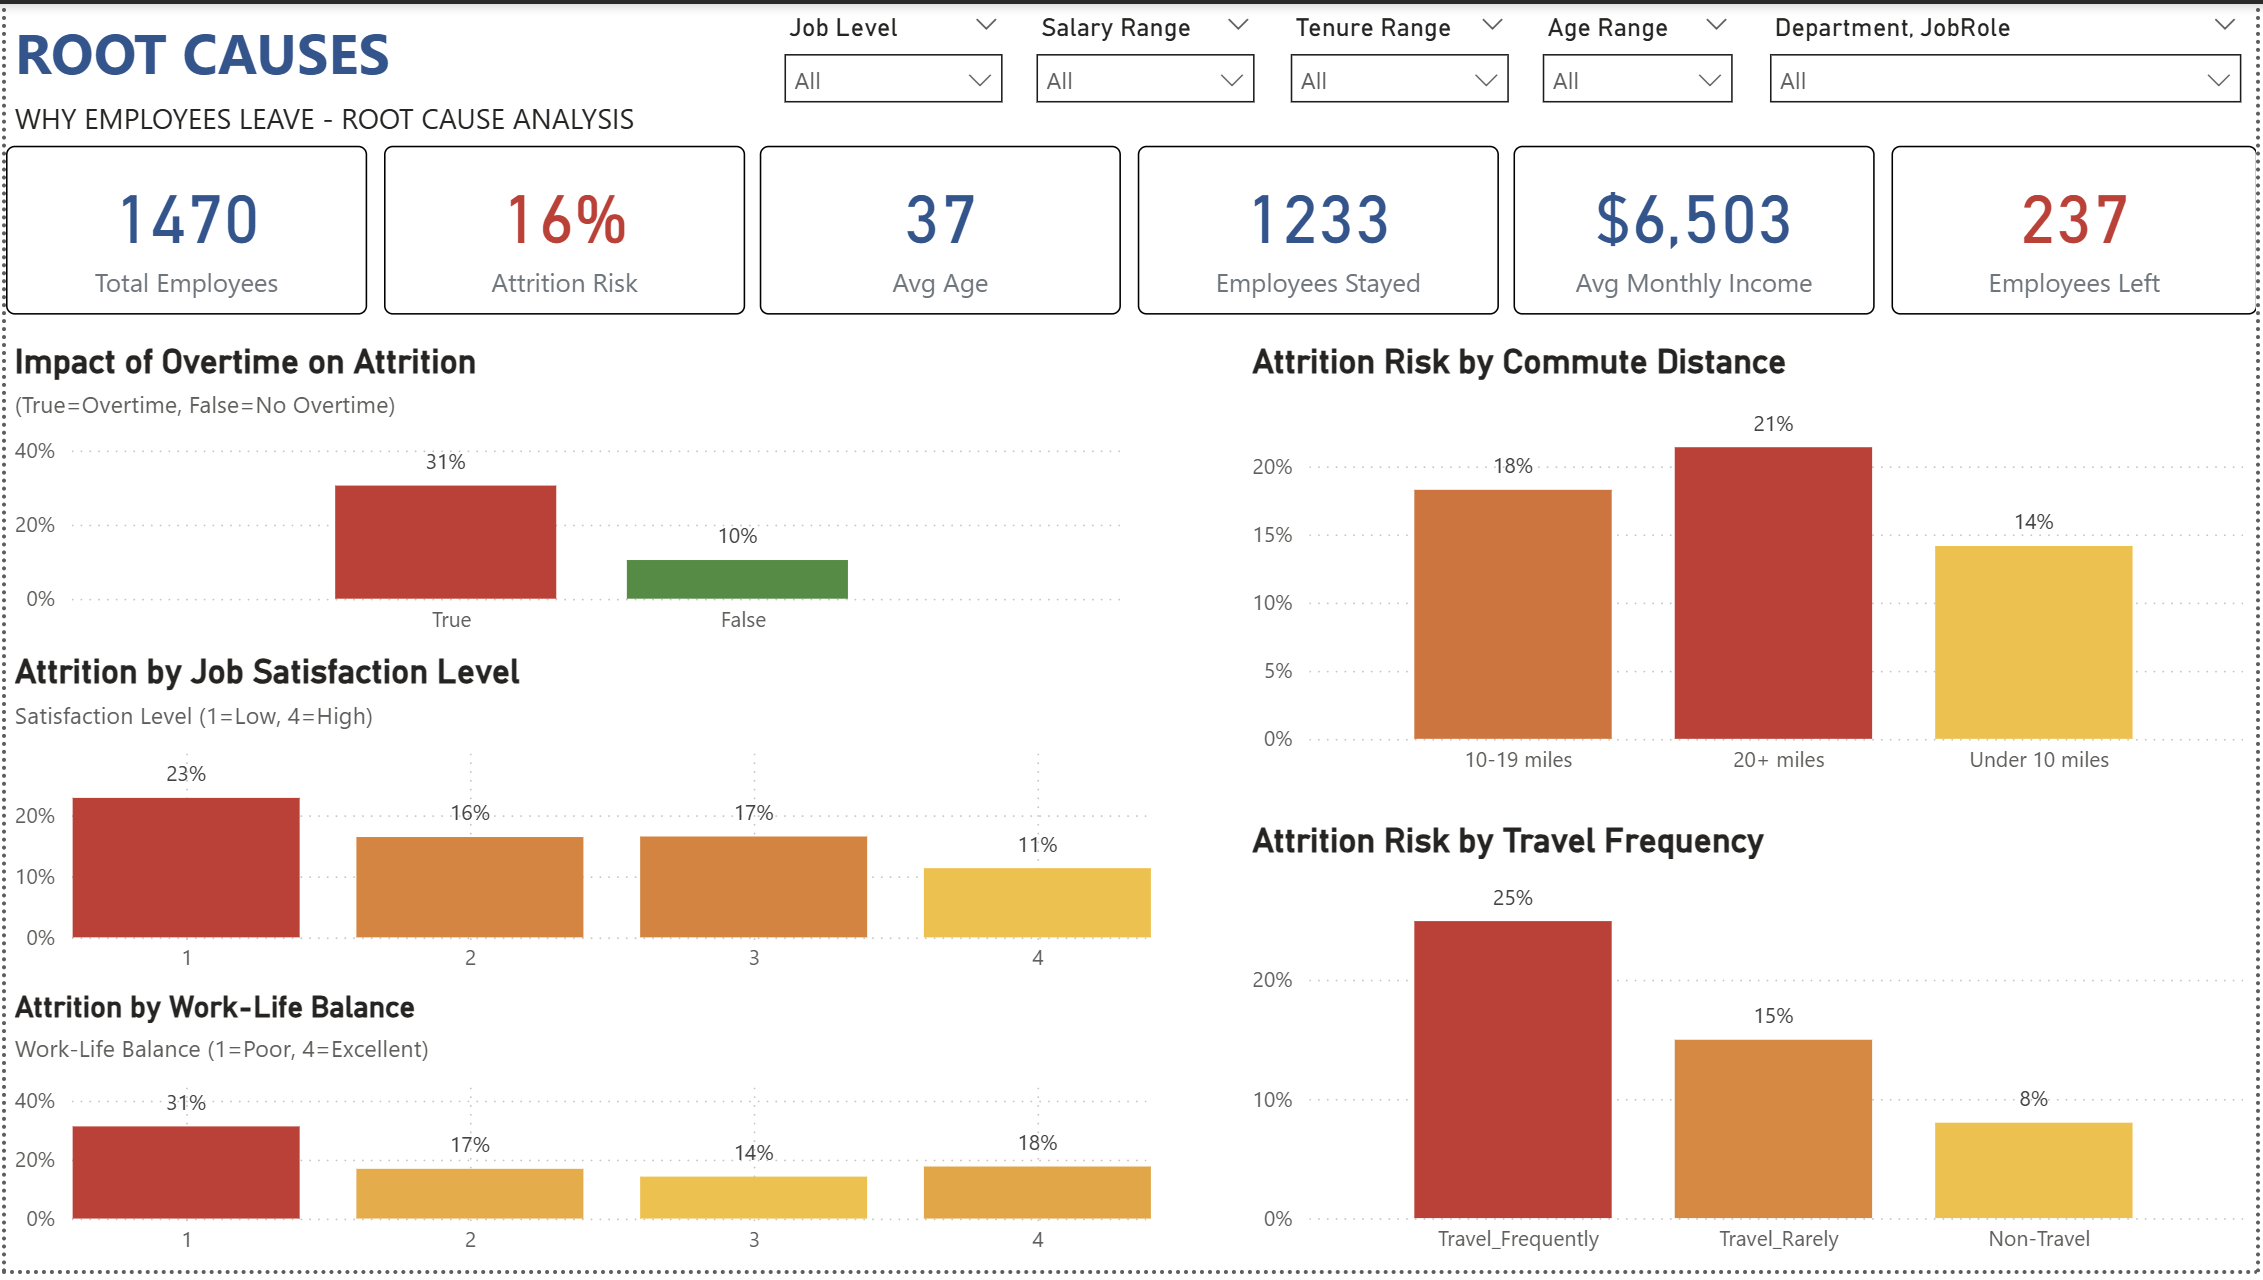

Layout of this report page (visuals, bound fields, positions):
{"tool":"powerbi","page":{"name":"ROOT CAUSE","canvas":[1280,720],"ordinal":2},"visuals":[{"type":"textbox","box":[0,0,640,64],"z":0,"group":"g1"},{"type":"clusteredColumnChart","title":"Impact of Overtime on Attrition","fields":{"Category":["Turnover.OverTime"],"Y":["Turnover.Attrition Risk"]},"box":[0,192,640,176],"z":0},{"type":"textbox","box":[0,48,640,32],"z":1000,"group":"g1"},{"type":"card","fields":{"Values":["Turnover.Total Employees"]},"box":[0,80,205.3,96],"z":1000,"group":"g2"},{"type":"clusteredColumnChart","title":"Attrition by Job Satisfaction Level","fields":{"Y":["Turnover.Attrition Risk"],"Category":["Turnover.JobSatisfaction"]},"box":[0,368,656,192],"z":1000},{"type":"card","fields":{"Values":["Turnover.Attrition Risk"]},"box":[214.4,80,205.3,96],"z":2000,"group":"g2"},{"type":"clusteredColumnChart","title":"Attrition by Work-Life Balance","fields":{"Y":["Turnover.Attrition Risk"],"Category":["Turnover.WorkLifeBalance"]},"box":[0,560,656,160],"z":2000},{"type":"card","fields":{"Values":["Turnover.Avg Age"]},"box":[428.8,80,205.3,96],"z":3000,"group":"g2"},{"type":"clusteredColumnChart","title":"Attrition Risk by Commute Distance","fields":{"Category":["Turnover.Distance Range"],"Y":["Turnover.Attrition Risk"]},"box":[704,192,576,256],"z":3000},{"type":"card","fields":{"Values":["Turnover.Employees Stayed"]},"box":[643.2,80,205.3,96],"z":4000,"group":"g2"},{"type":"clusteredColumnChart","title":"Attrition Risk by Travel Frequency","fields":{"Y":["Turnover.Attrition Risk"],"Category":["Turnover.BusinessTravel"]},"box":[704,464,576,256],"z":4000},{"type":"group","id":"g1","title":"Group 1","box":[0,0,640,80],"z":5000},{"type":"card","fields":{"Values":["Turnover.Employees Left"]},"box":[1072,80,208,96],"z":5000,"group":"g2"},{"type":"group","id":"g2","title":"Group 3","box":[0,80,1280,96],"z":6000},{"type":"card","fields":{"Values":["Turnover.Avg Monthly Income"]},"box":[857.6,80,205.3,96],"z":6000,"group":"g2"},{"type":"slicer","fields":{"Values":["Turnover.Age Group"]},"box":[864,0,128,64],"z":7000},{"type":"slicer","fields":{"Values":["Turnover.Tenure Group"]},"box":[720,0,144,64],"z":8000},{"type":"slicer","fields":{"Values":["Turnover.Department","Turnover.JobRole"]},"box":[992,0,288,64],"z":9000},{"type":"slicer","fields":{"Values":["Turnover.Salary Band"]},"box":[576,0,144,64],"z":10000},{"type":"slicer","fields":{"Values":["Turnover.Job Level Text"]},"box":[432,0,144,64],"z":11000}]}

Visuals, with their boxes in screenshot pixels (x1, y1, x2, y2), scaled from the page's 1280x720 canvas onto the 2263x1280 screenshot:
textbox: {"left": 0, "top": 0, "right": 1132, "bottom": 114}
"Impact of Overtime on Attrition" clusteredColumnChart: {"left": 0, "top": 341, "right": 1132, "bottom": 654}
textbox: {"left": 0, "top": 85, "right": 1132, "bottom": 142}
card - Turnover.Total Employees: {"left": 0, "top": 142, "right": 363, "bottom": 313}
"Attrition by Job Satisfaction Level" clusteredColumnChart: {"left": 0, "top": 654, "right": 1160, "bottom": 996}
card - Turnover.Attrition Risk: {"left": 379, "top": 142, "right": 742, "bottom": 313}
"Attrition by Work-Life Balance" clusteredColumnChart: {"left": 0, "top": 996, "right": 1160, "bottom": 1279}
card - Turnover.Avg Age: {"left": 758, "top": 142, "right": 1121, "bottom": 313}
"Attrition Risk by Commute Distance" clusteredColumnChart: {"left": 1245, "top": 341, "right": 2262, "bottom": 796}
card - Turnover.Employees Stayed: {"left": 1137, "top": 142, "right": 1500, "bottom": 313}
"Attrition Risk by Travel Frequency" clusteredColumnChart: {"left": 1245, "top": 825, "right": 2262, "bottom": 1279}
"Group 1" group: {"left": 0, "top": 0, "right": 1132, "bottom": 142}
card - Turnover.Employees Left: {"left": 1895, "top": 142, "right": 2262, "bottom": 313}
"Group 3" group: {"left": 0, "top": 142, "right": 2262, "bottom": 313}
card - Turnover.Avg Monthly Income: {"left": 1516, "top": 142, "right": 1879, "bottom": 313}
slicer - Turnover.Age Group: {"left": 1528, "top": 0, "right": 1754, "bottom": 114}
slicer - Turnover.Tenure Group: {"left": 1273, "top": 0, "right": 1528, "bottom": 114}
slicer - Turnover.Department x Turnover.JobRole: {"left": 1754, "top": 0, "right": 2262, "bottom": 114}
slicer - Turnover.Salary Band: {"left": 1018, "top": 0, "right": 1273, "bottom": 114}
slicer - Turnover.Job Level Text: {"left": 764, "top": 0, "right": 1018, "bottom": 114}
